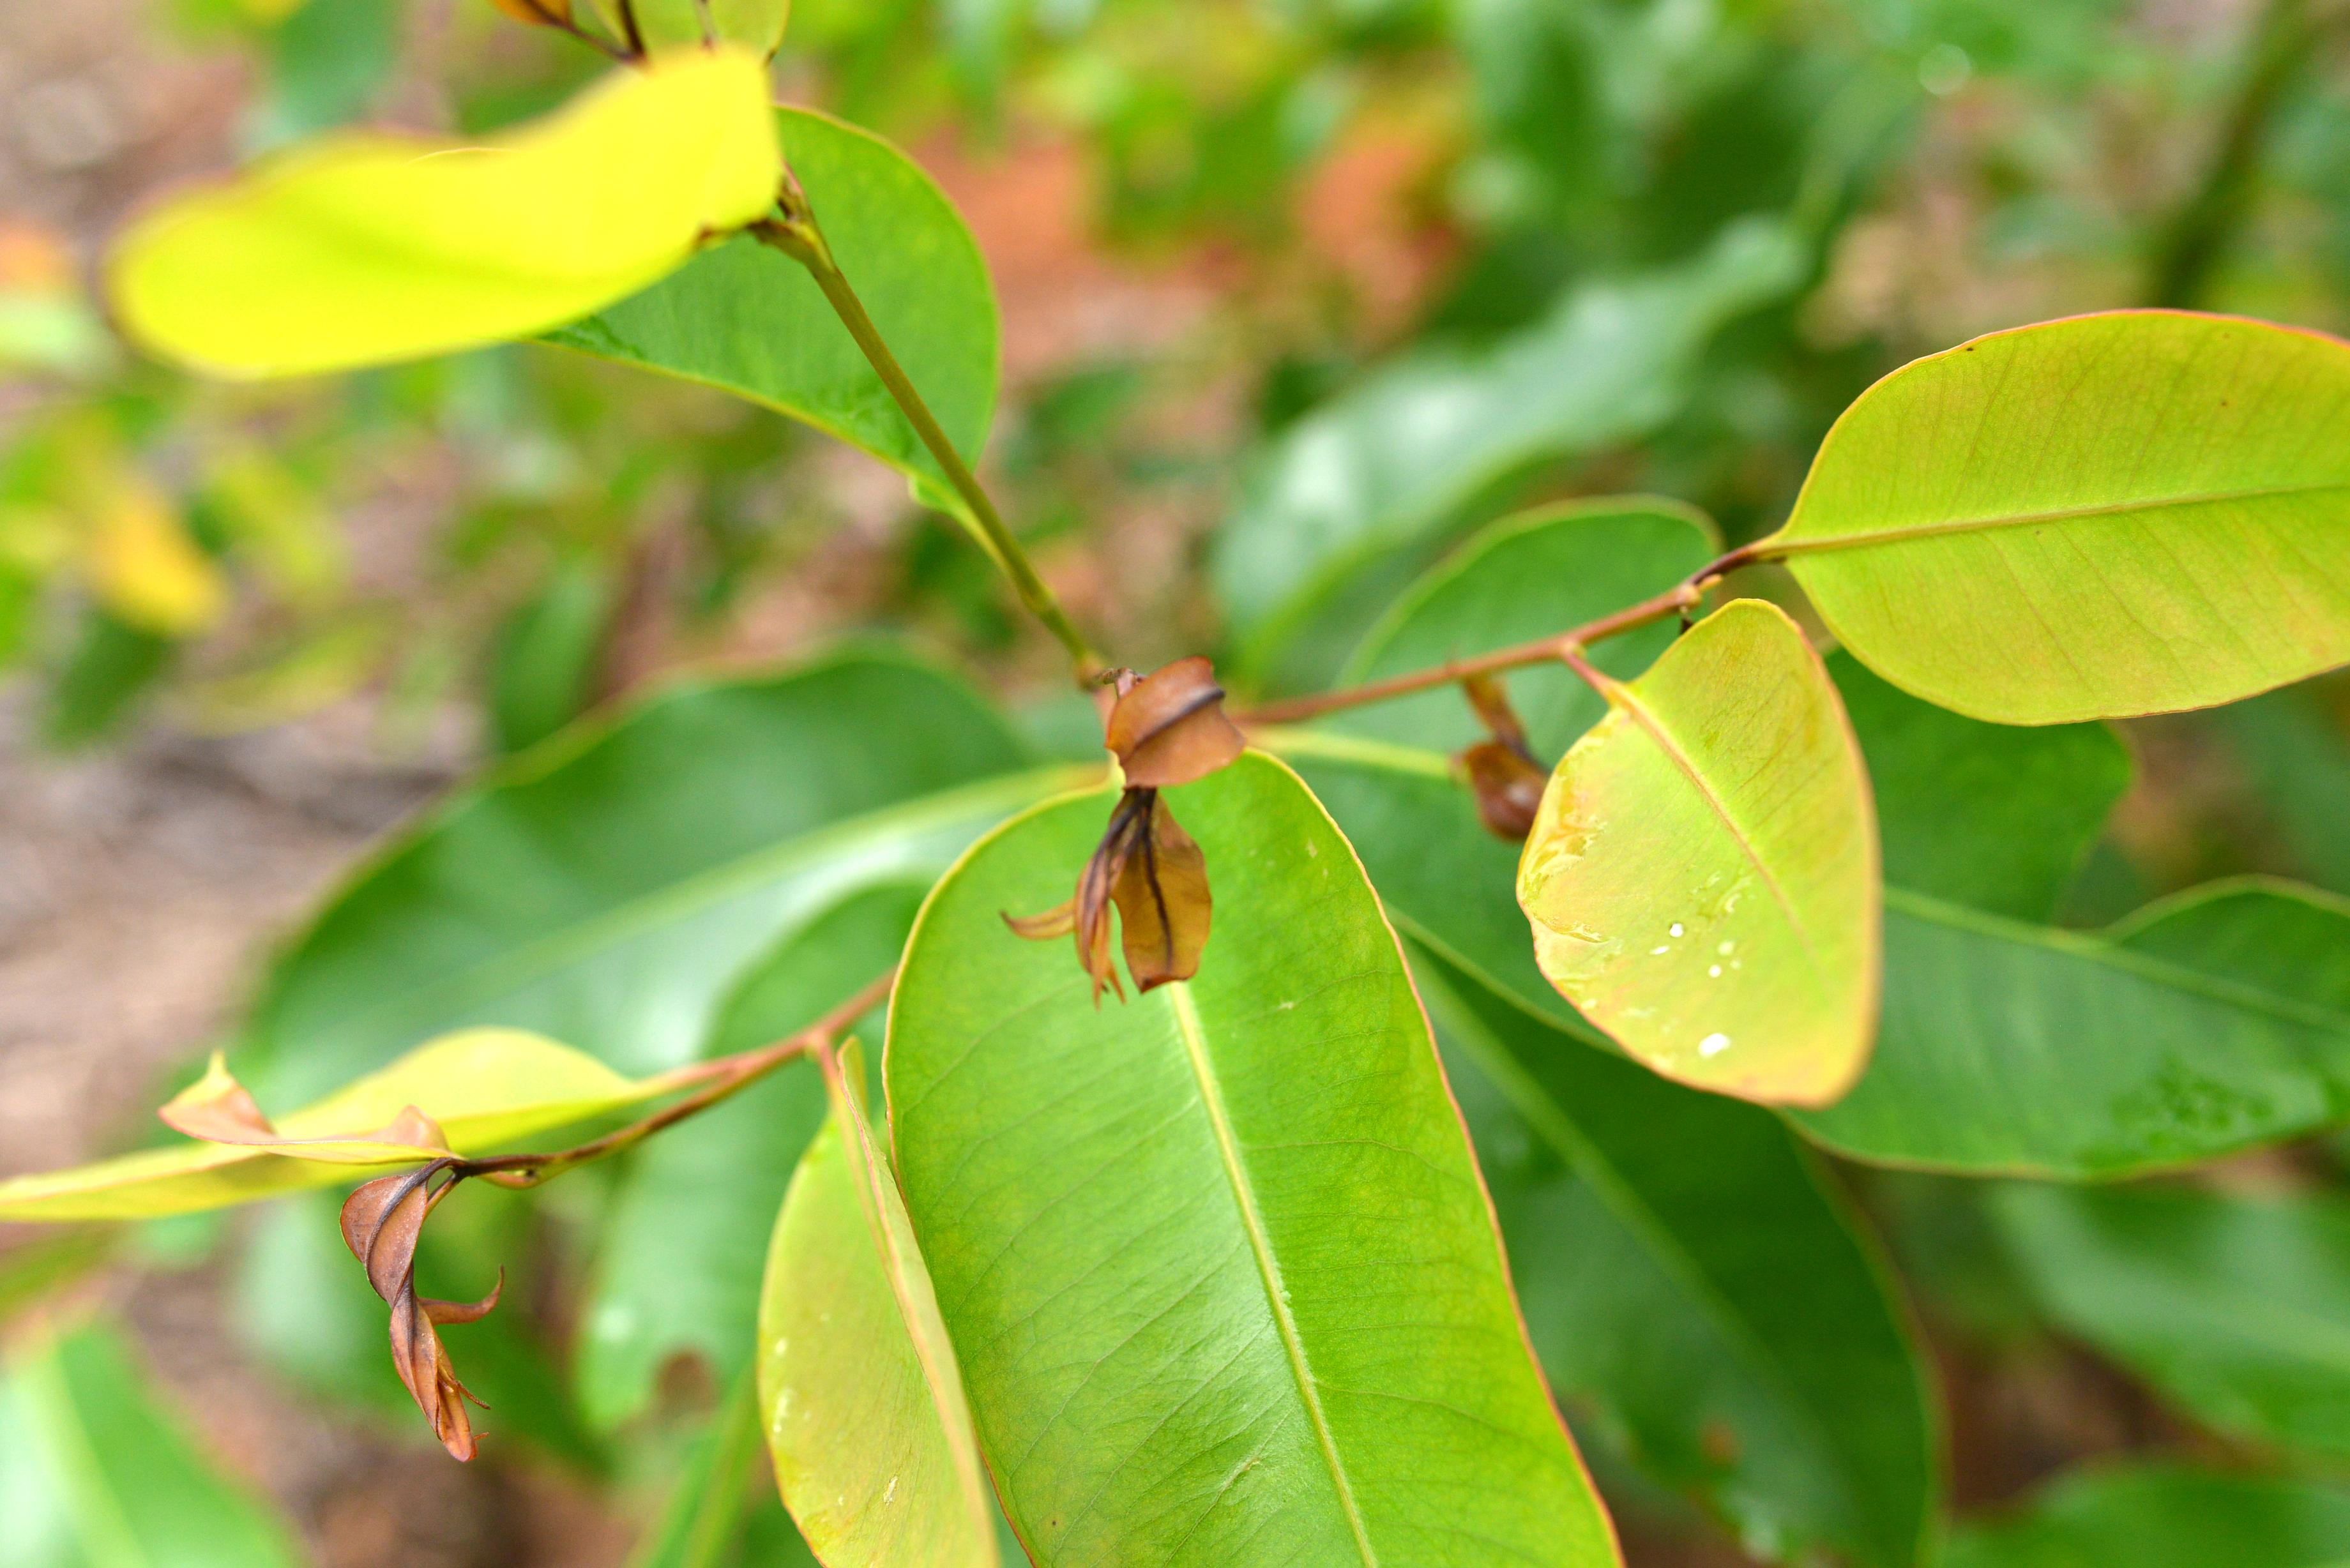Helopeltis-Withered Sprout: (325, 1160, 539, 1459), (1006, 786, 1143, 987), (1106, 784, 1213, 1001), (1437, 646, 1550, 847), (1106, 646, 1258, 775)
